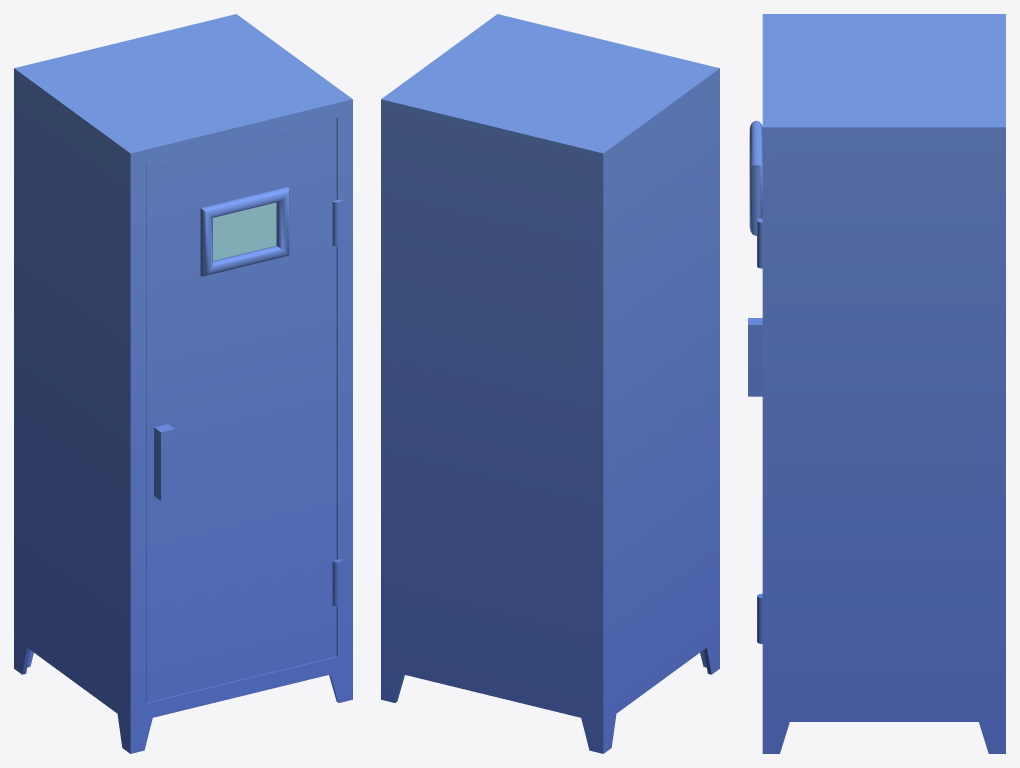
Rendered from locker2.fbx.
3 renders of one model, left to right at view 1: azimuth 30°, elevation 25°; view 2: azimuth 150°, elevation 25°; view 3: azimuth 270°, elevation 25°, orthographic. The views are drawn at different scales.
Parts seen in each view (by area): view 1: locker2; view 2: locker2; view 3: locker2.
Boxes of the visible parts, bbox=[...] form: locker2: bbox=[14, 14, 352, 753]; locker2: bbox=[381, 14, 719, 753]; locker2: bbox=[748, 14, 1005, 753].
Size of the model in its own units: 89.15 by 230 by 85.73.
Materials: 1 (1 with a texture image).
